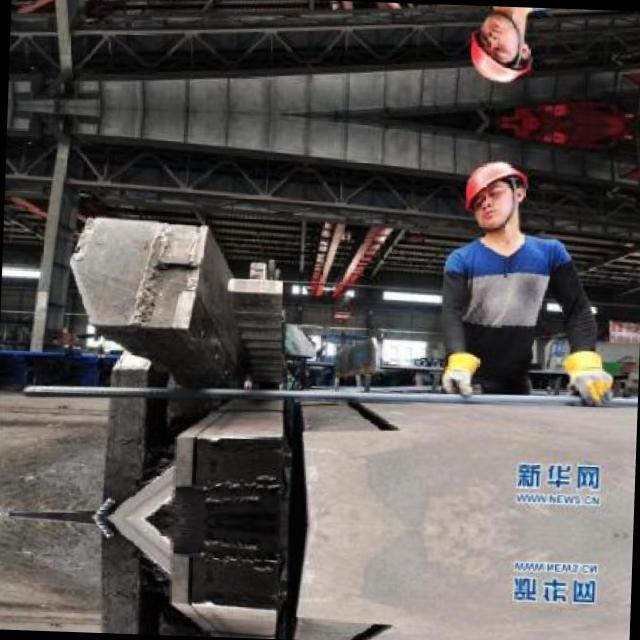helmet: (454, 149, 534, 235), (458, 5, 538, 90)
